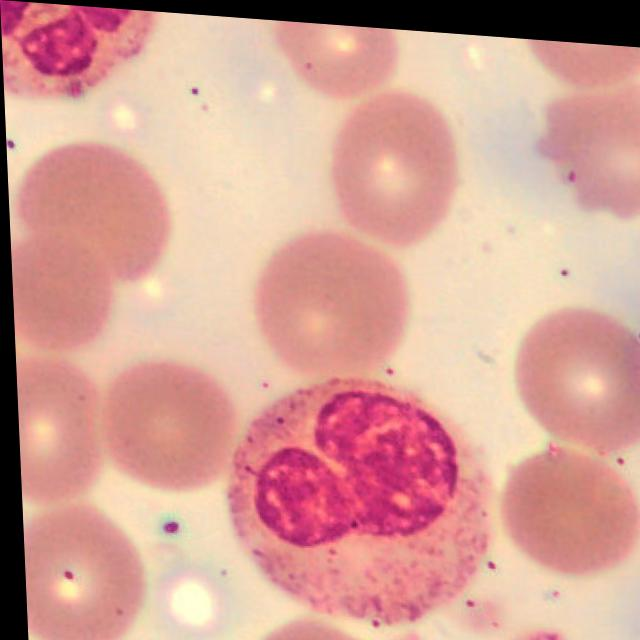Bastonete: (224, 374, 484, 627)
